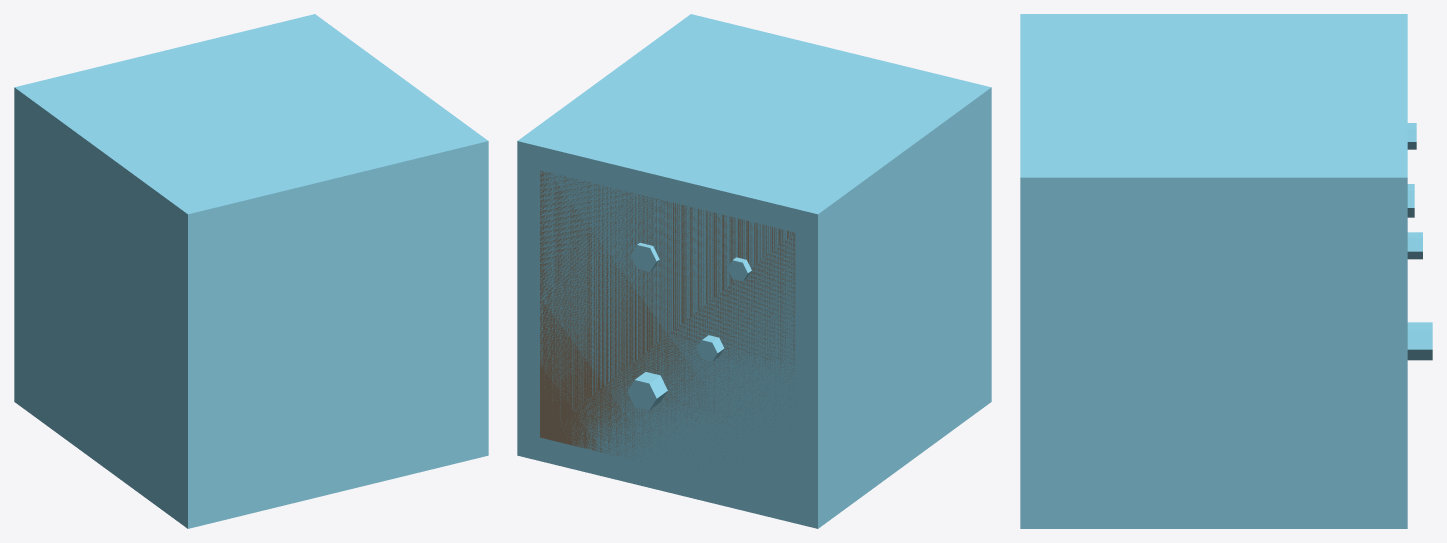
The model's file is 50_azure_coral.glb.
The picture shows the model from 3 angles, left to right: view 1: azimuth 30°, elevation 25°; view 2: azimuth 150°, elevation 25°; view 3: azimuth 270°, elevation 25°; orthographic projection. The views are drawn at different scales.
Parts seen in each view (by area): view 1: Core; view 2: Core, Soil, Coral_8, Coral_3; view 3: Core, Coral_8.
Part boxes in pixels (x1,y1,x2,y2): Core: (14,14,488,528); Core: (517,14,991,528); Soil: (540,170,795,461); Coral_8: (627,372,667,410); Coral_3: (630,243,659,271); Core: (1020,14,1407,528); Coral_8: (1407,322,1432,360).
Bounding box in the file's own units: 1 × 1 × 1.06.
